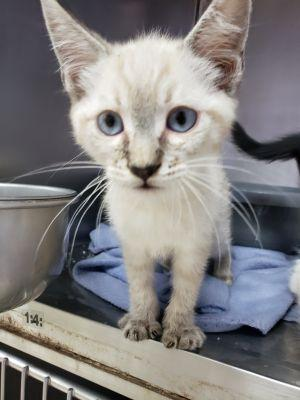siamese: (46, 1, 249, 209)
